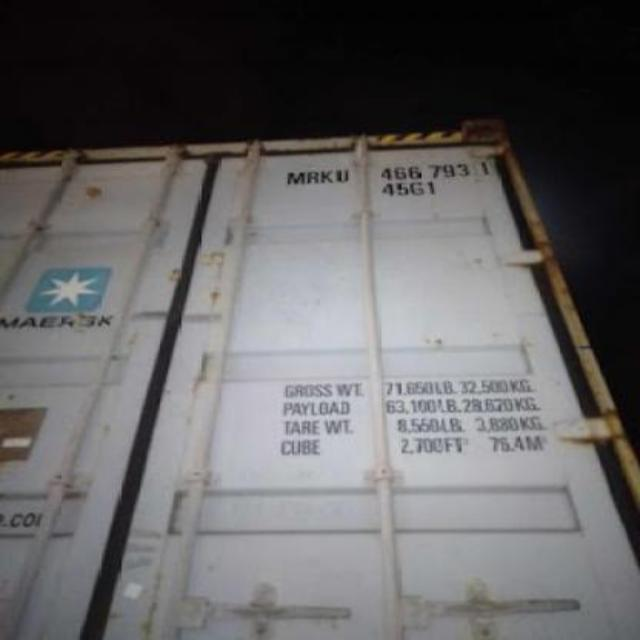1: (474, 154, 496, 176)
3: (456, 158, 469, 182)
4: (381, 159, 394, 185)
6: (394, 158, 406, 182), (408, 156, 420, 180)
7: (428, 158, 442, 180)
9: (442, 156, 456, 182)
K: (318, 160, 332, 190)
M: (282, 162, 304, 188)
R: (306, 164, 318, 192)
U: (334, 162, 352, 188)
